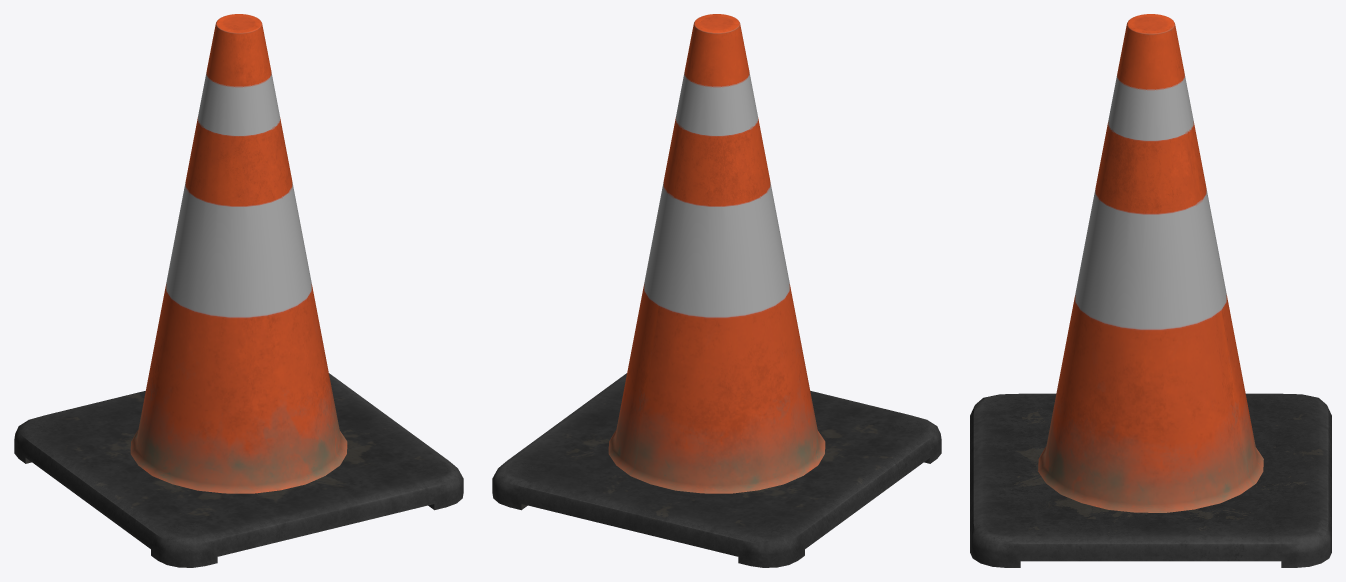
Rendered from traffic_cone.obj.
3 views of the same model, side by side, from view 1: azimuth 30°, elevation 25°; view 2: azimuth 150°, elevation 25°; view 3: azimuth 270°, elevation 25° (orthographic). The views are drawn at different scales.
Parts seen in each view (by area): view 1: traffic_cone; view 2: traffic_cone; view 3: traffic_cone.
Part boxes in pixels (x1=…): traffic_cone: x1=14, y1=14, x2=463, y2=567; traffic_cone: x1=492, y1=14, x2=941, y2=567; traffic_cone: x1=970, y1=14, x2=1331, y2=567.
Bounding box in the file's own units: 50 × 71.32 × 50.
